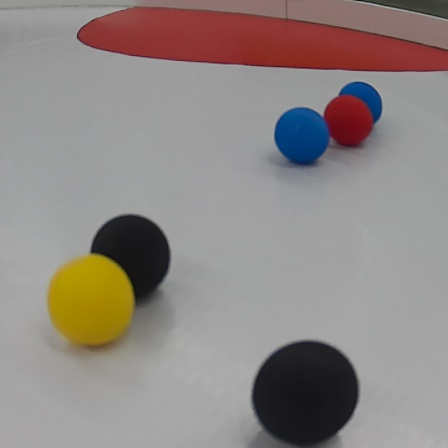black: (246, 334, 368, 439), (89, 215, 171, 299)
blue: (271, 104, 327, 167), (342, 82, 383, 127)
red: (322, 95, 371, 148)
red_base: (75, 3, 448, 81)
yellow: (45, 251, 136, 348)
